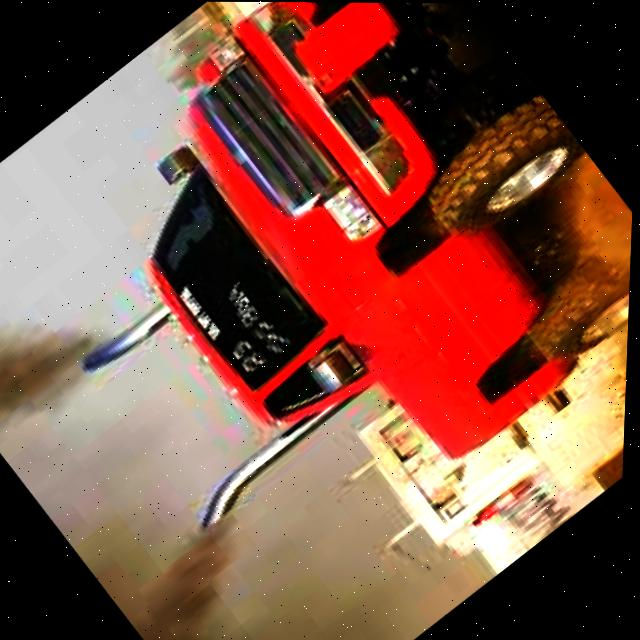Smoke: (96, 489, 299, 640), (0, 277, 132, 461)
